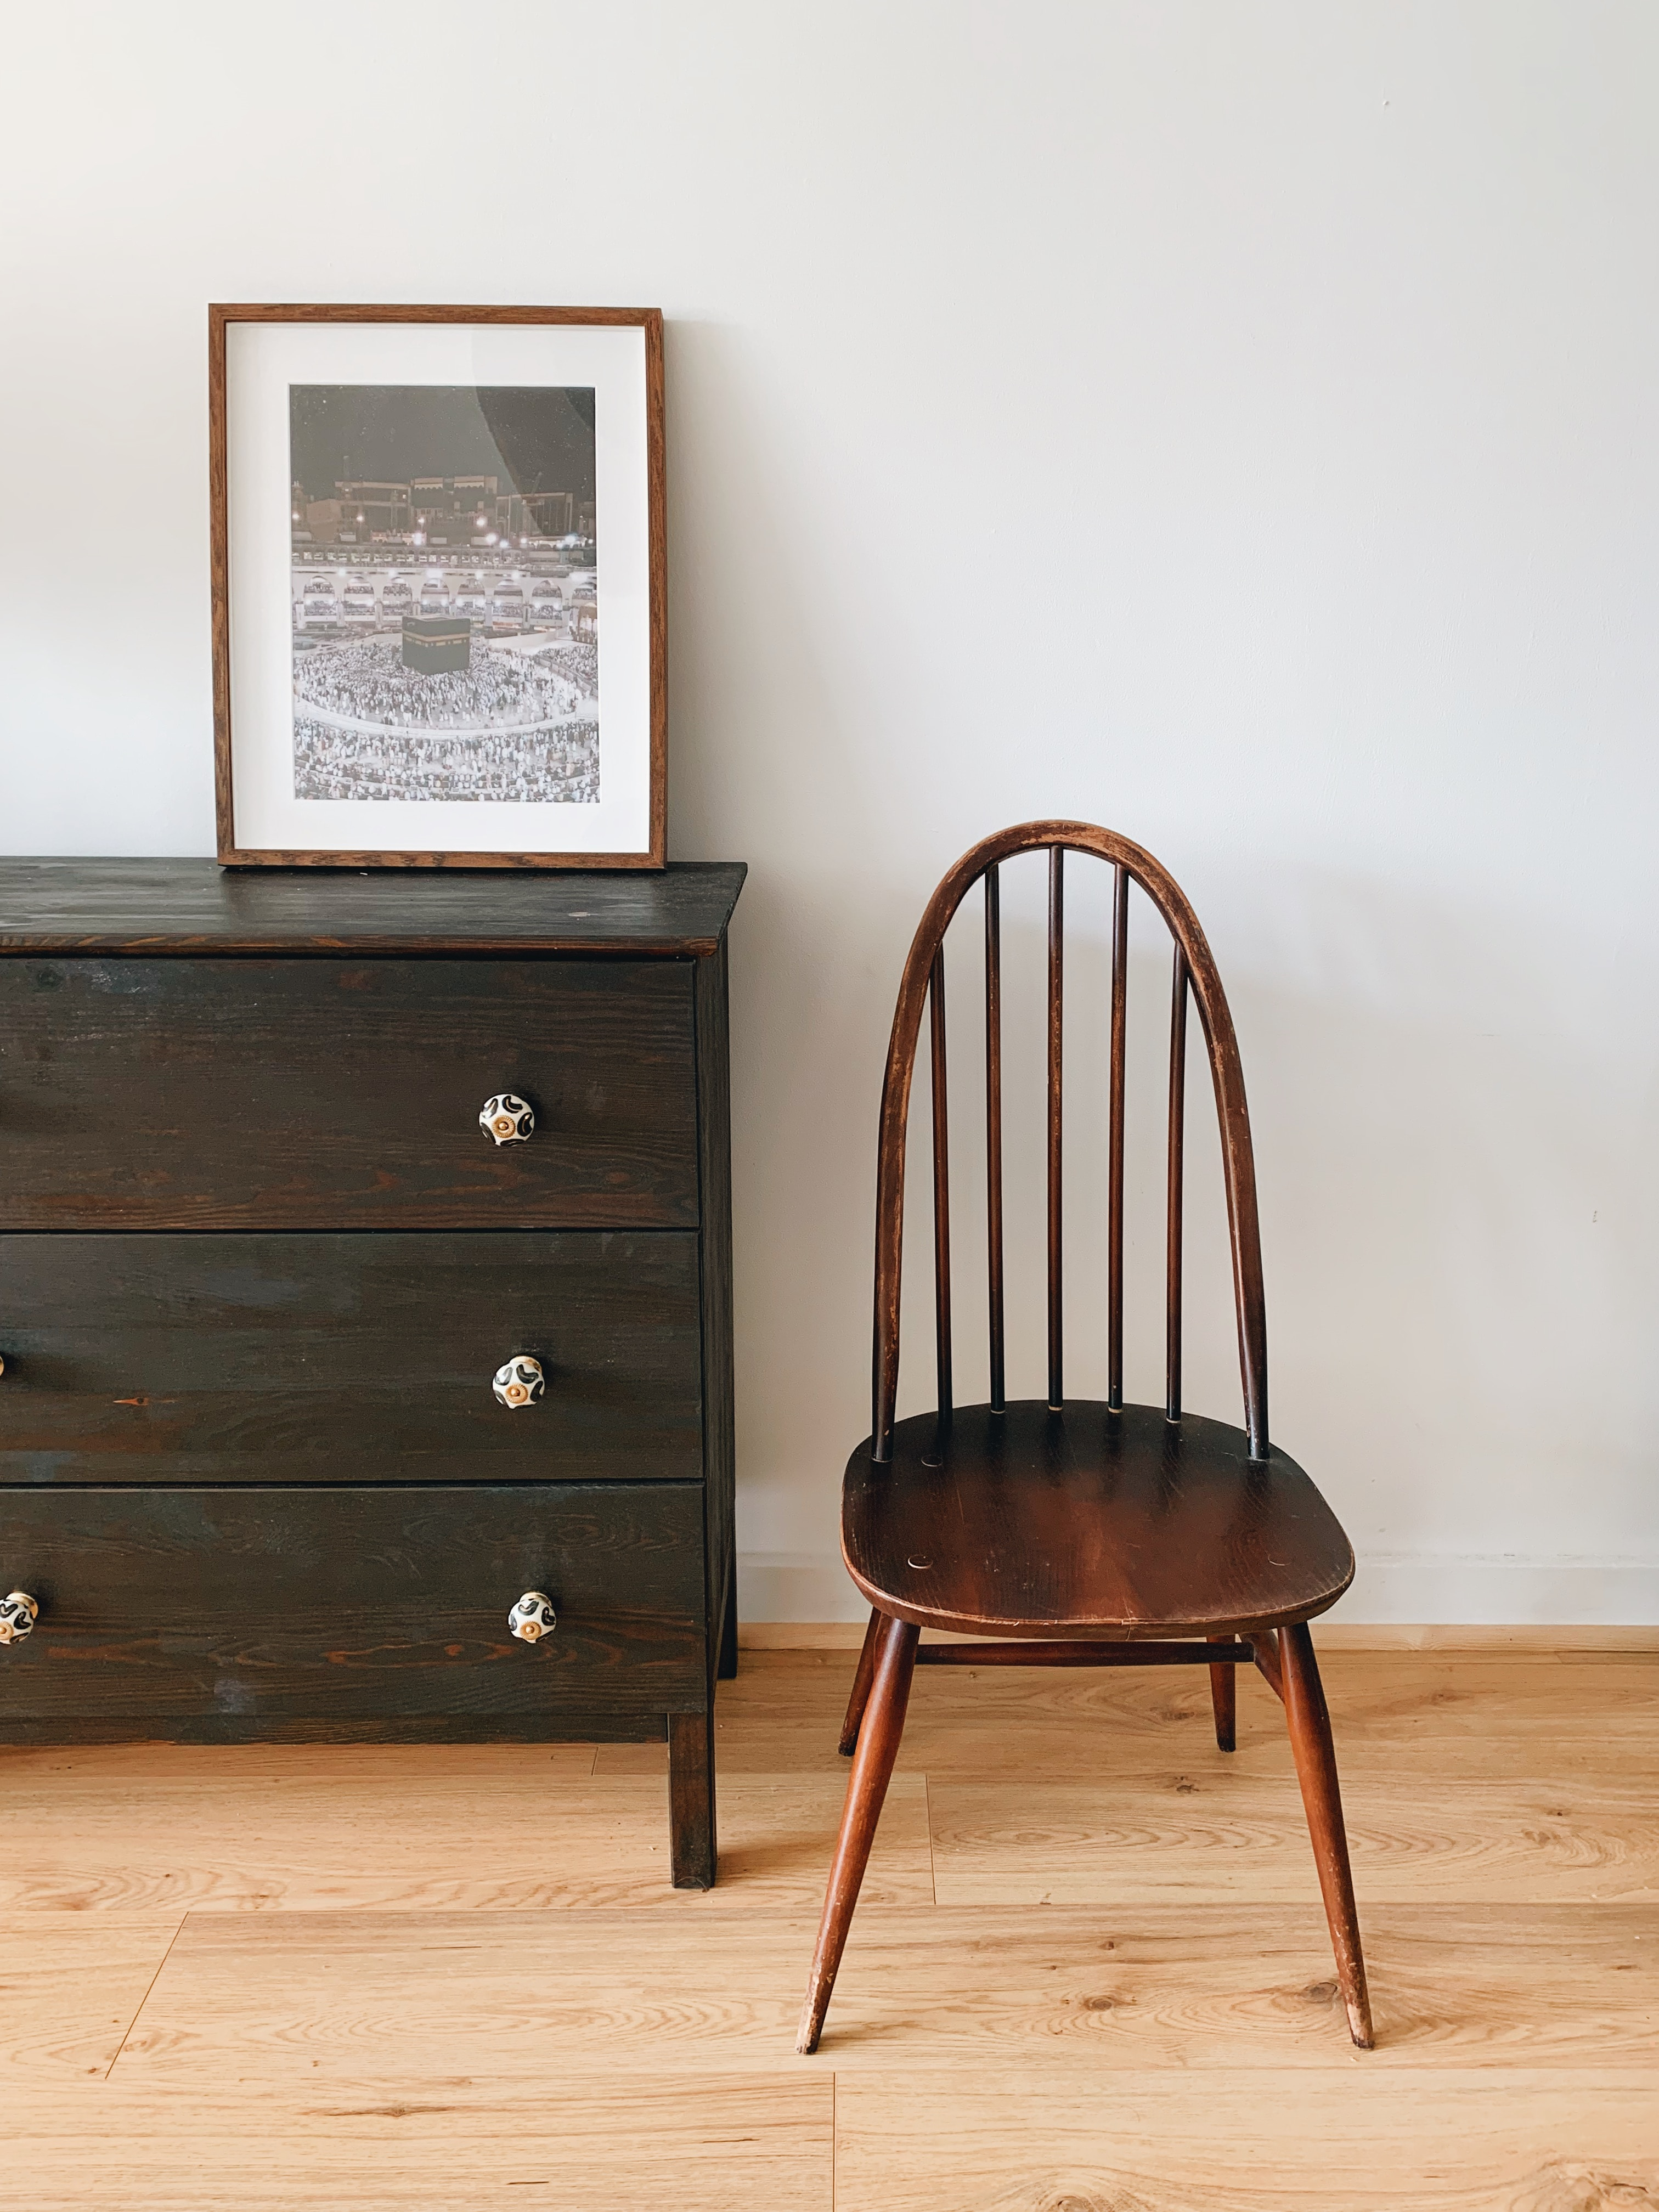Chair: (800, 780, 1405, 2085)
Plant: (166, 265, 697, 894)
